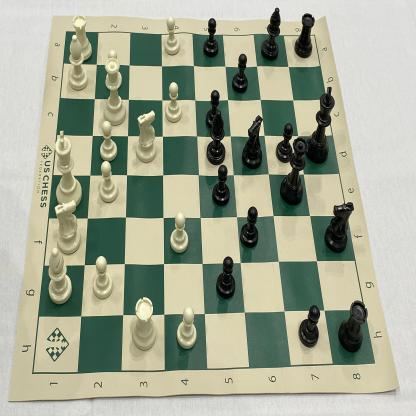black-bishop: (202, 110, 227, 168), (261, 6, 282, 62)
black-king: (306, 84, 336, 165)
black-knight: (325, 201, 355, 254), (241, 113, 264, 171)
black-pawn: (215, 253, 237, 301), (298, 303, 321, 348), (240, 204, 259, 250), (205, 89, 224, 132), (213, 163, 231, 207), (231, 52, 249, 94), (276, 121, 293, 165), (202, 17, 220, 58)
black-queen: (281, 136, 309, 205)
black-rook: (337, 297, 368, 354), (293, 10, 316, 61)
white-bishop: (46, 248, 73, 306), (66, 35, 90, 91)
white-king: (54, 130, 83, 210)
white-knight: (51, 199, 83, 254), (134, 109, 158, 165)
white-pawn: (174, 304, 198, 352), (91, 255, 113, 301), (168, 210, 190, 255), (97, 161, 119, 203), (99, 121, 119, 163), (164, 81, 183, 123), (163, 16, 181, 58), (106, 49, 123, 88)
white-queen: (99, 58, 129, 127)
white-rook: (130, 295, 158, 353), (72, 13, 93, 64)
